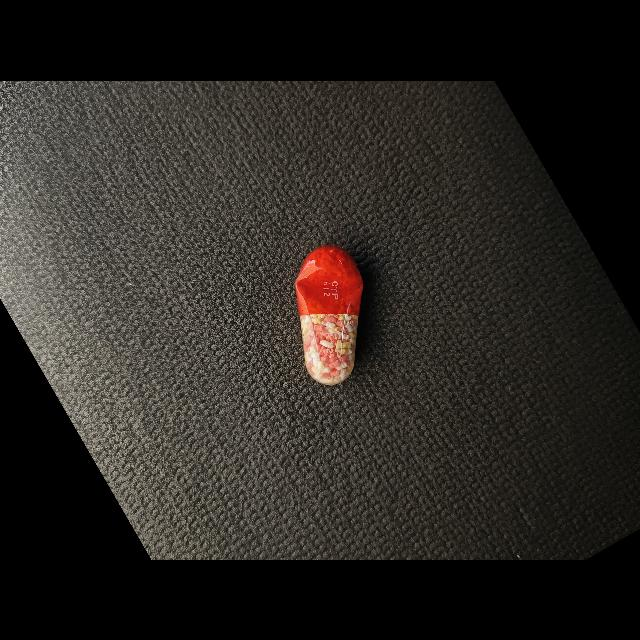Defective Capsule: (295, 245, 364, 385)
